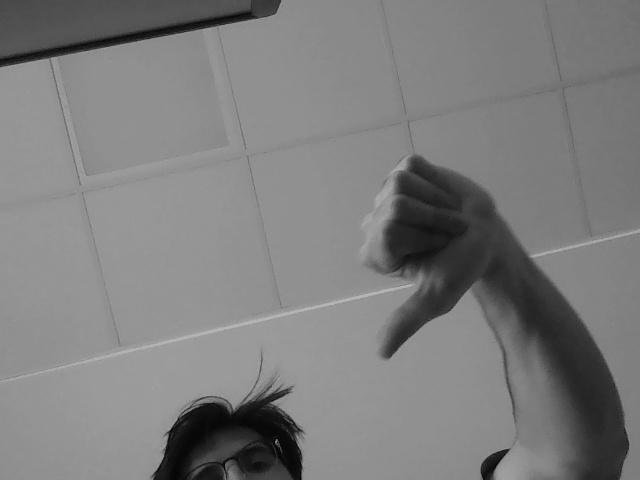bad: (327, 140, 513, 342)
